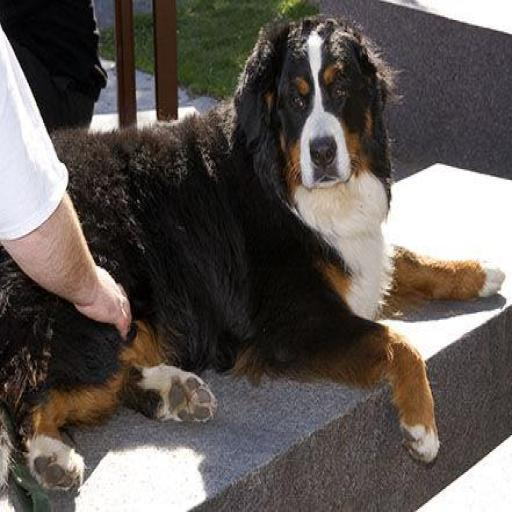dog_face: (236, 26, 391, 191)
